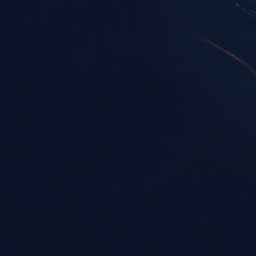Marine Debris: (235, 3, 241, 7)
